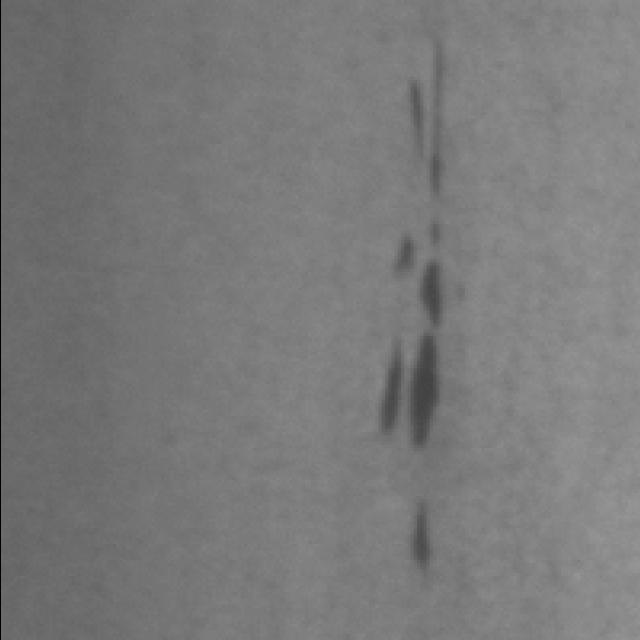inclusion: (390, 48, 470, 192), (375, 215, 463, 324), (373, 341, 457, 445), (394, 490, 453, 590)
